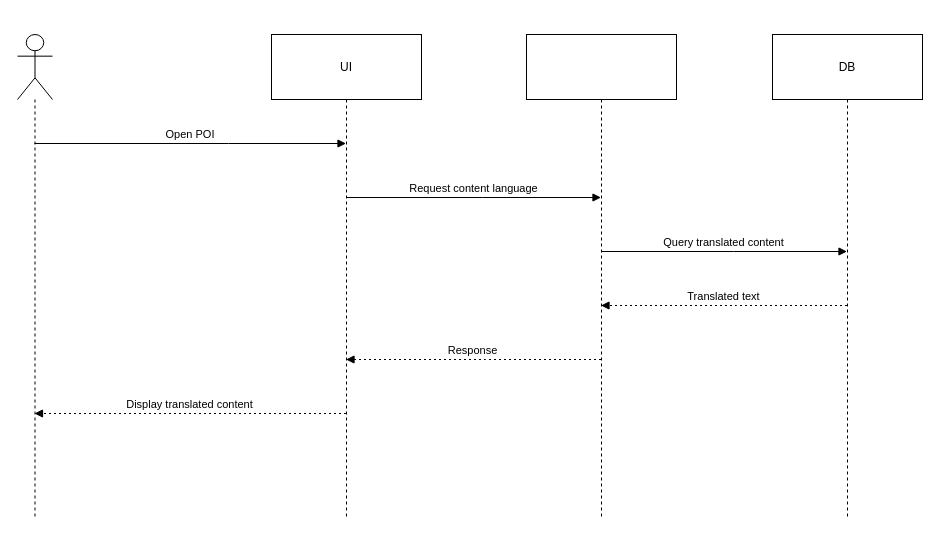
Some shapes in this 940 by 536 pixel diagram are drawn without their labels. Here are the shapes that lost their labels. From the top down, the box of each, then its label:
(16, 34, 52, 518): User
(526, 34, 676, 518): API
